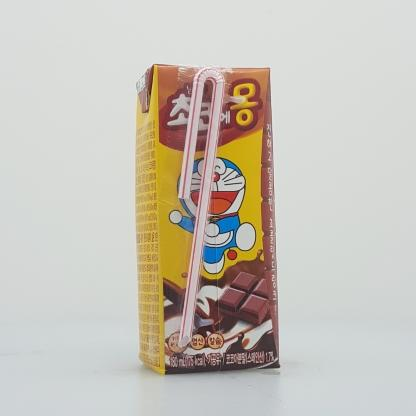---------180ML: (135, 63, 281, 375)
